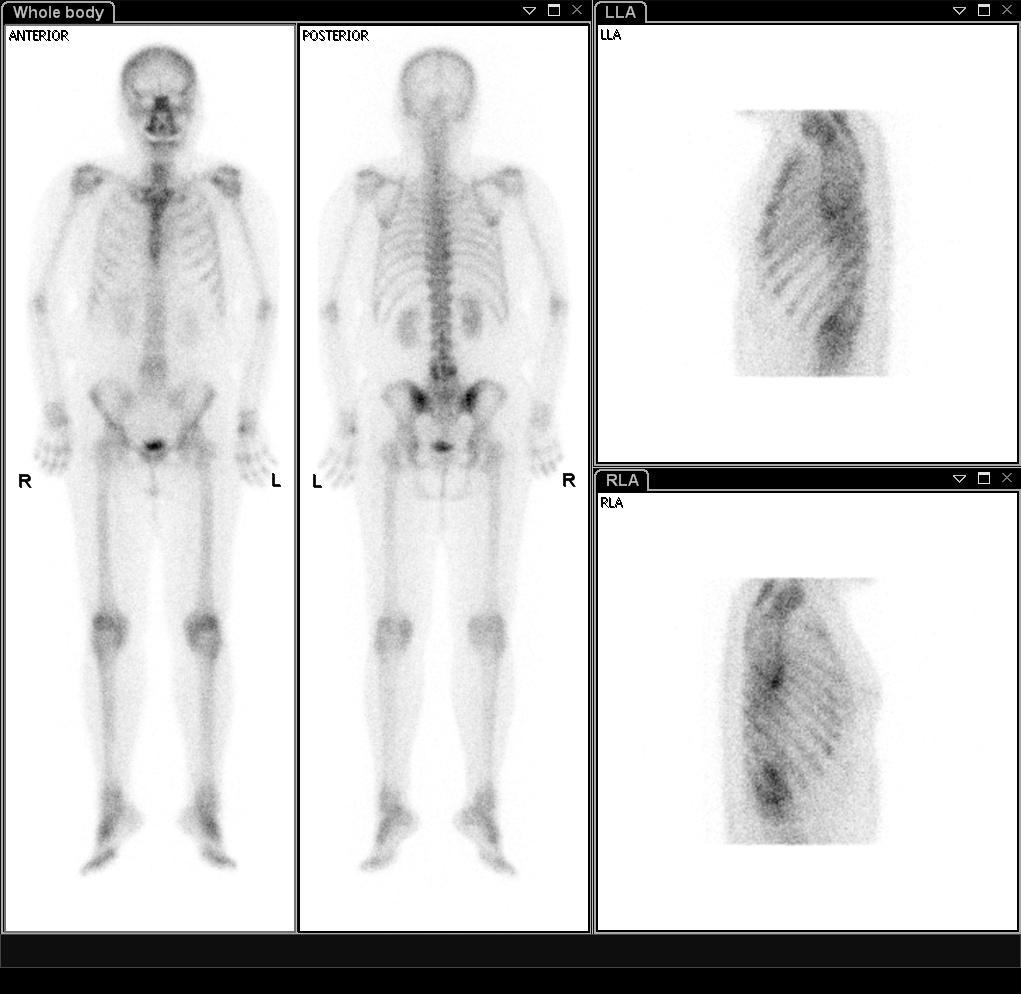person: (4, 26, 590, 932)
